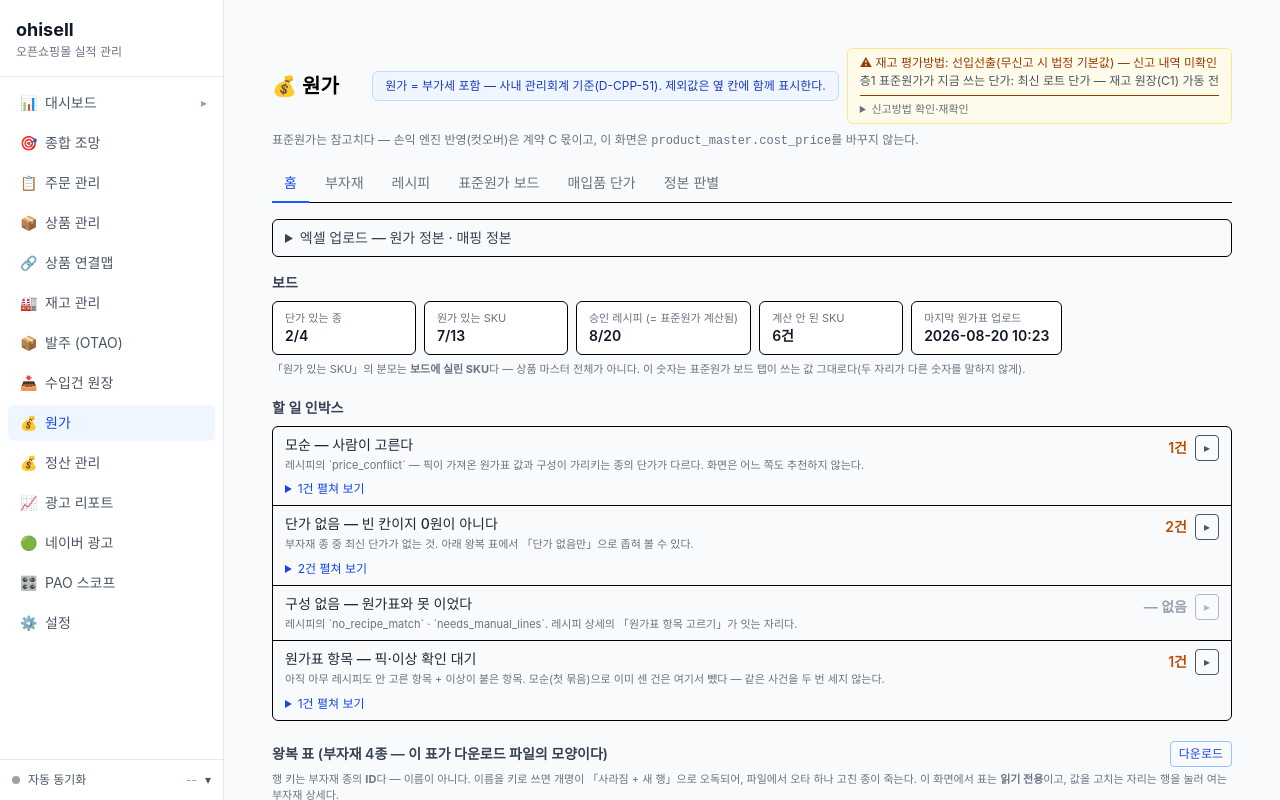
Test case: H4c: 묶음 머리 ▸ — 「단가 없음」은 왕복 표를 좁히고, 레시피 계열은 레시피 탭으로 (변이 방어 M2) › 「모순」 묶음의 ▸를 누르면 레시피 탭으로 실제 이동한다
This screenshot has width=1280, height=800.
Check: the heading "💰 원가" is shown, box [272,72,339,100]
Check: the element with test id "cost-home-board-strip" is shown, box [272,274,1062,376]
Step 1. Click the button with test id "inbox-goto-conflict" → (1207, 448), box [1195,435,1219,461]
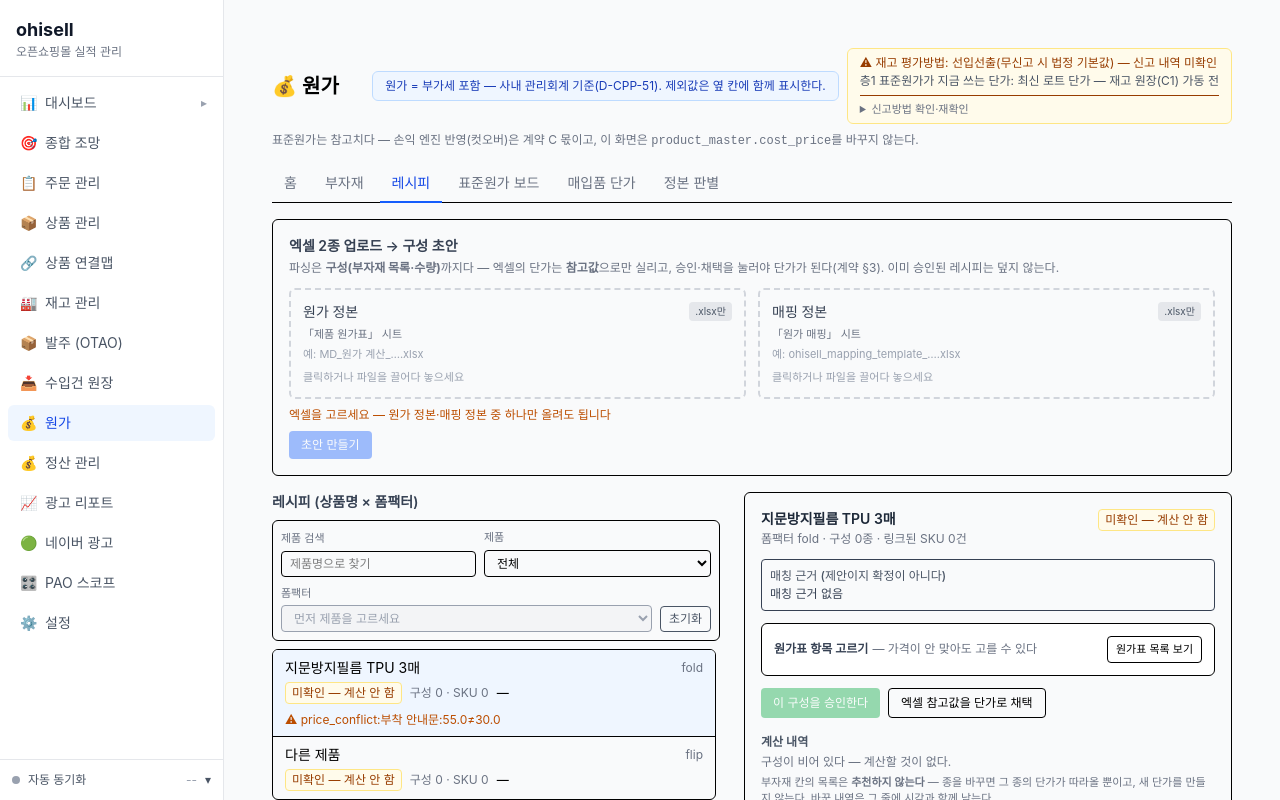
Check: the element with test id "recipe-list-scroll" is shown, box [272,649,720,799]
